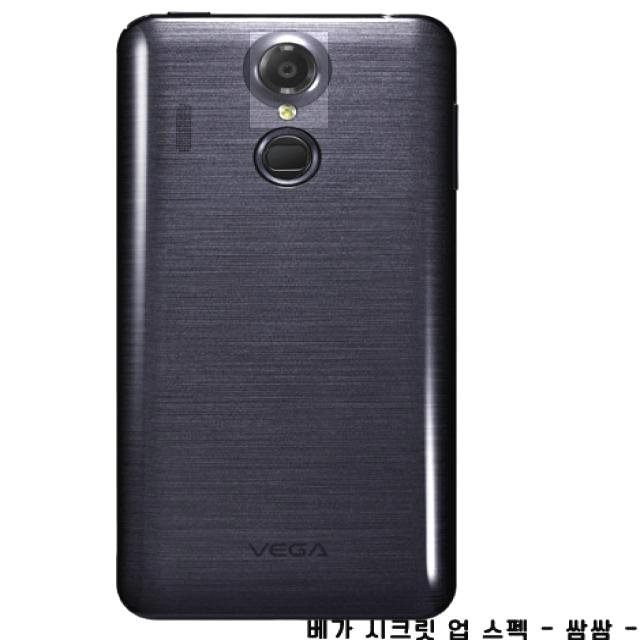lens: (251, 33, 329, 129)
phone: (109, 7, 461, 620)
